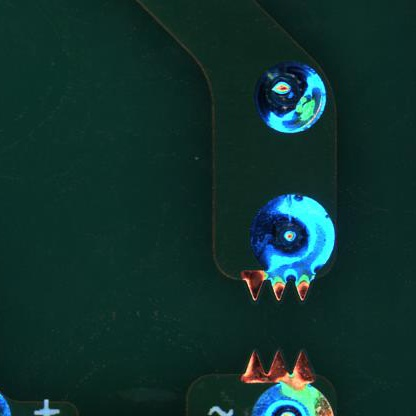spot: (219, 185, 341, 310), (246, 55, 330, 141)
